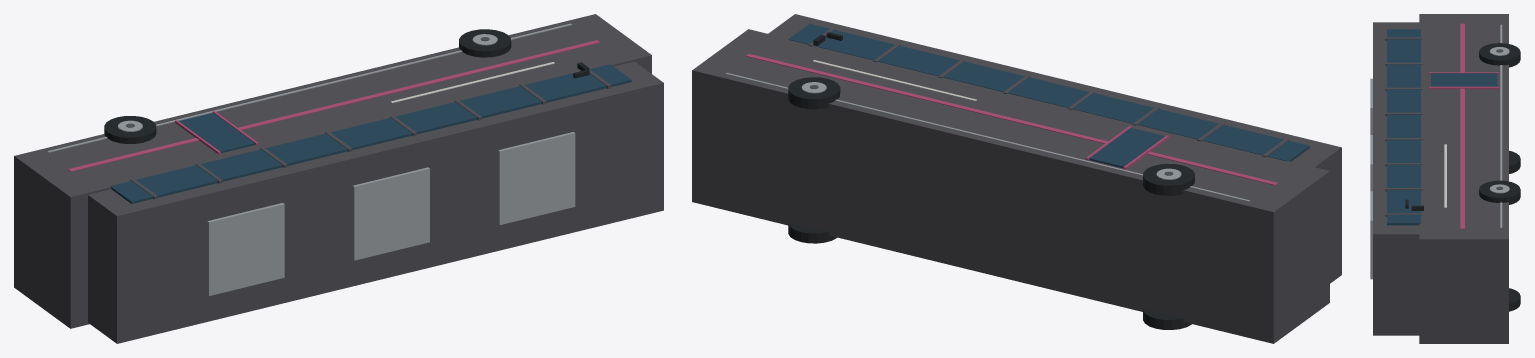
File: RM_Bus_39.glb
3 views of the same model, side by side, from view 1: azimuth 30°, elevation 25°; view 2: azimuth 150°, elevation 25°; view 3: azimuth 270°, elevation 25° (orthographic). The views are drawn at different scales.
Parts seen in each view (by area): view 1: part_001, part_000, part_002, part_039, part_038, part_037, part_013, part_040, part_014, part_030, part_024; view 2: part_000, part_002, part_001, part_013, part_040, part_030, part_024, part_014, part_027, part_021; view 3: part_000, part_001, part_002, part_013, part_040, part_030, part_024, part_014, part_042, part_039, part_021, part_027 (+6 smaller).
Boxes of the visible parts, <box> form: part_001: <box>88,61,663,343</box>; part_000: <box>14,14,651,328</box>; part_002: <box>110,64,631,203</box>; part_039: <box>498,132,575,224</box>; part_038: <box>352,167,429,260</box>; part_037: <box>207,203,284,295</box>; part_013: <box>68,40,600,171</box>; part_040: <box>179,112,254,153</box>; part_014: <box>47,23,572,152</box>; part_030: <box>459,29,511,57</box>; part_024: <box>104,116,156,143</box>; part_000: <box>692,29,1329,343</box>; part_002: <box>788,23,1309,161</box>; part_001: <box>768,14,1341,283</box>; part_013: <box>746,54,1278,185</box>; part_040: <box>1089,128,1165,168</box>; part_030: <box>788,77,840,109</box>; part_024: <box>1143,163,1194,195</box>; part_014: <box>725,73,1250,201</box>; part_027: <box>788,222,836,243</box>; part_021: <box>1143,308,1191,329</box>; part_000: <box>1419,14,1508,343</box>; part_001: <box>1373,22,1419,335</box>; part_002: <box>1387,29,1420,225</box>; part_013: <box>1460,23,1464,229</box>; part_040: <box>1431,73,1497,86</box>; part_030: <box>1479,180,1520,204</box>; part_024: <box>1479,43,1520,67</box>; part_014: <box>1500,24,1502,227</box>; part_042: <box>1429,86,1498,89</box>; part_039: <box>1370,191,1372,279</box>; part_021: <box>1509,150,1520,173</box>; part_027: <box>1509,288,1520,311</box>.
Bounding box in the file's own units: 12.06 × 2.93 × 3.4.
